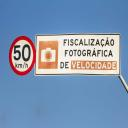speed_limit_50: (8, 35, 37, 77)
